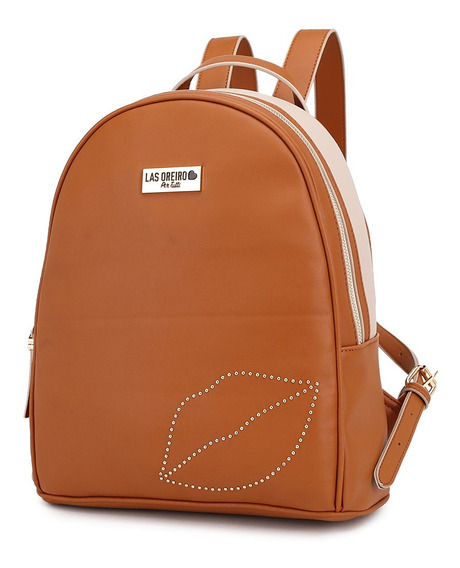cartera: (23, 26, 437, 527)
